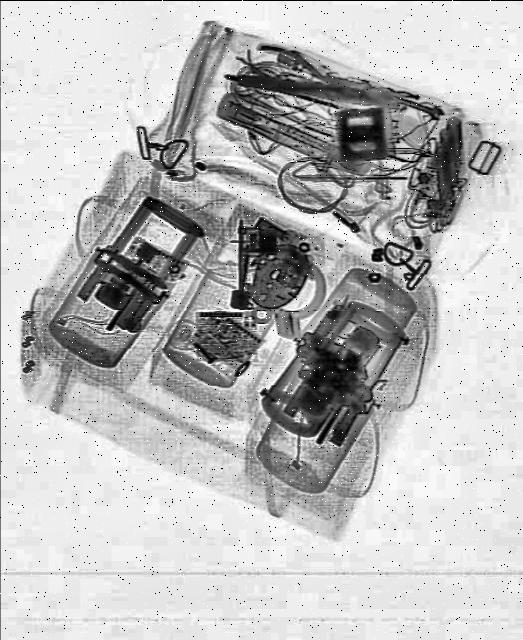Pliers: (245, 38, 380, 116)
